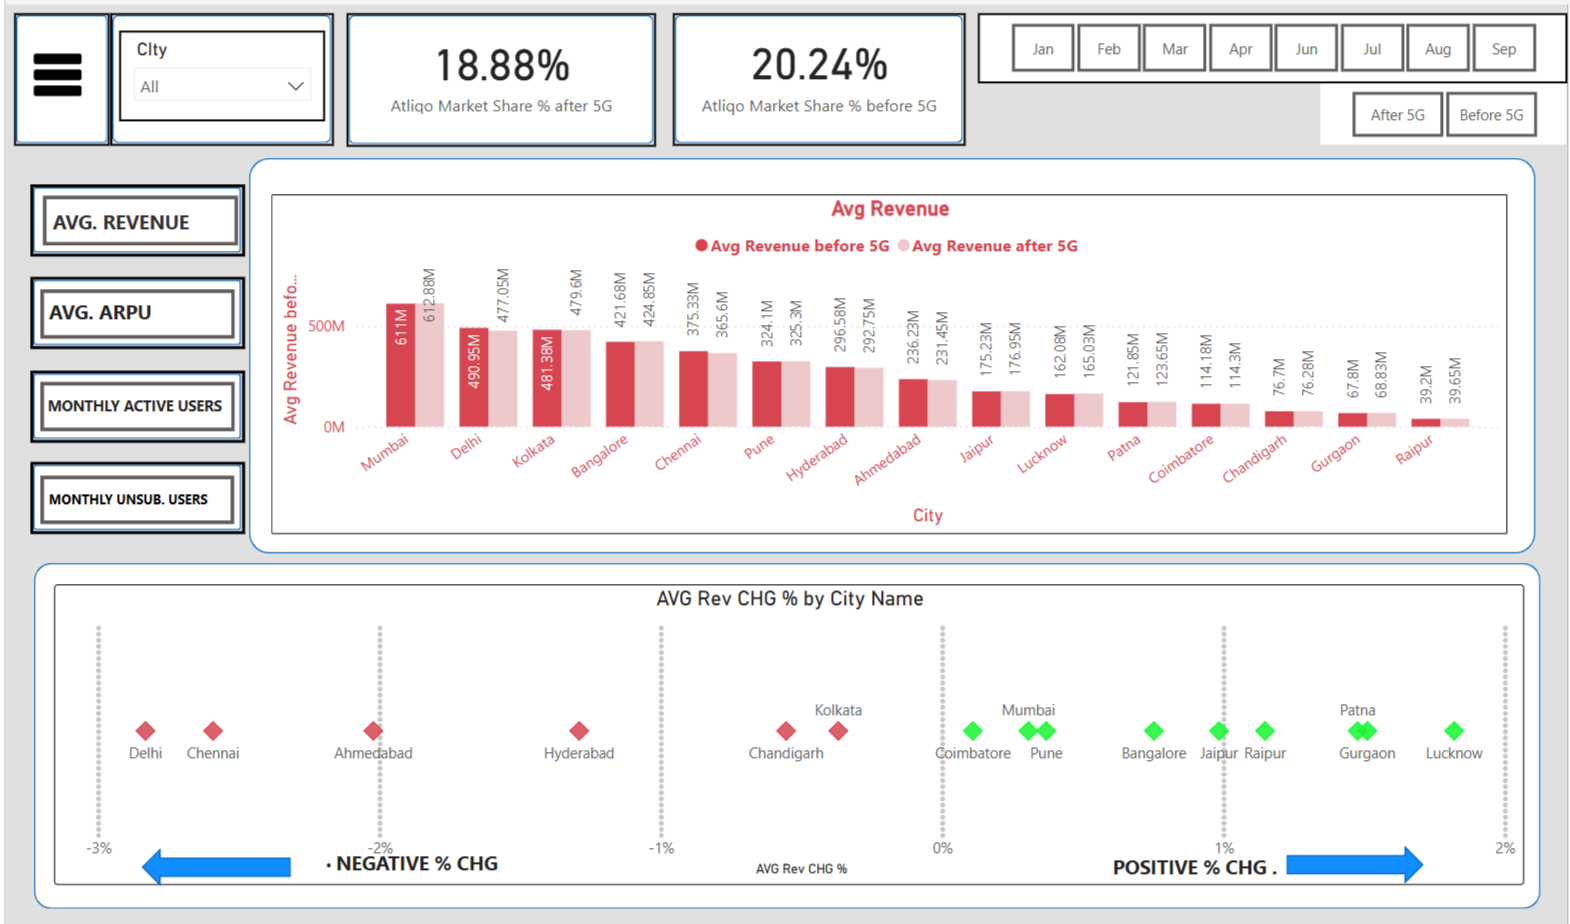

What the dashboard file says about the page in this screenshot:
{"tool":"powerbi","page":{"name":"Avg Revenue","canvas":[1280,760],"ordinal":3},"visuals":[{"type":"shape","box":[23.6,457.5,1234.5,283.3],"z":0},{"type":"shape","box":[20.6,375,176.3,59.6],"z":1000},{"type":"textbox","box":[30.5,389.9,148.9,32.3],"z":2000},{"type":"shape","box":[20.3,299.9,176.2,59.5],"z":3000},{"type":"textbox","box":[29.9,314.9,192.9,34.5],"z":4000},{"type":"shape","box":[20.3,223.7,176.2,59.5],"z":5000},{"type":"textbox","box":[30.5,236,139,47.2],"z":6000},{"type":"shape","box":[20.3,147.5,176.2,59.5],"z":7000},{"type":"textbox","box":[34.2,161.5,156.4,36],"z":8000},{"type":"shape","box":[200.2,126,1054.2,323.9],"z":9000},{"type":"actionButton","box":[30.5,156.6,160.1,41],"z":10000},{"type":"actionButton","box":[28.6,309.4,159.5,40.5],"z":11000},{"type":"actionButton","box":[29,385.8,158.9,39.7],"z":12000},{"type":"actionButton","box":[28.6,233.2,159.5,40.5],"z":13000},{"type":"scatterChart","fields":{"Category":["City_Name.City Name"],"X":["Key Measures.AVG Rev CHG %"]},"box":[40.3,475.3,1204.8,246.4],"z":17000},{"type":"clusteredColumnChart","title":"Avg Revenue","fields":{"Category":["City_Name.City Name"],"Y":["Key Measures.Avg Revenue before 5G","Key Measures.Avg Revenue after 5G"]},"box":[218,155.3,1013.1,278.6],"z":18000},{"type":"textbox","box":[902.2,690.8,163.1,38.1],"z":22000},{"type":"textbox","box":[247.4,687.2,192.9,50],"z":23000},{"type":"shape","box":[1050.2,689.7,112.3,31.3],"z":24000},{"type":"shape","box":[111.7,691.1,122.3,31.3],"z":25000},{"type":"shape","box":[547.1,7.1,240,109],"z":26000},{"type":"shape","box":[279.6,7.1,253.9,109.8],"z":27000},{"type":"shape","box":[85.9,7.2,183.3,108.8],"z":28000},{"type":"card","fields":{"Values":["Key Measures.Atliqo Market Share % before 5G"]},"box":[562.2,8.5,209.9,93.3],"z":29000},{"type":"card","fields":{"Values":["Key Measures.Atliqo Market Share % after 5G"]},"box":[294.6,15.3,223.7,79.6],"z":30000},{"type":"slicer","fields":{"Values":["City_Name.City Name"]},"box":[93.1,21.5,169,74.5],"z":31000},{"type":"slicer","fields":{"Values":["Dim_date.before/after_5g"]},"box":[1078.3,64.7,201.7,50.8],"z":32000},{"type":"shape","box":[7.2,7.2,78.8,109],"z":33000},{"type":"image","box":[18.6,24.4,48.7,65.9],"z":34000},{"type":"slicer","fields":{"Values":["Dim_date.month_name"]},"box":[797.3,6.9,483,57.6],"z":35000}]}

Visuals, with their boxes in screenshot pixels (x1, y1, x2, y2), scaled from the page's 1280x760 canvas onto the 1570x924 screenshot:
shape: <region>29, 556, 1543, 901</region>
shape: <region>25, 456, 242, 528</region>
textbox: <region>37, 474, 220, 513</region>
shape: <region>25, 365, 241, 437</region>
textbox: <region>37, 383, 273, 425</region>
shape: <region>25, 272, 241, 344</region>
textbox: <region>37, 287, 208, 344</region>
shape: <region>25, 179, 241, 252</region>
textbox: <region>42, 196, 234, 240</region>
shape: <region>246, 153, 1539, 547</region>
actionButton: <region>37, 190, 234, 240</region>
actionButton: <region>35, 376, 231, 425</region>
actionButton: <region>36, 469, 230, 517</region>
actionButton: <region>35, 284, 231, 333</region>
scatterChart - City_Name.City Name x Key Measures.AVG Rev CHG %: <region>49, 578, 1527, 877</region>
"Avg Revenue" clusteredColumnChart: <region>267, 189, 1510, 528</region>
textbox: <region>1107, 840, 1307, 886</region>
textbox: <region>303, 835, 540, 896</region>
shape: <region>1288, 839, 1426, 877</region>
shape: <region>137, 840, 287, 878</region>
shape: <region>671, 9, 965, 141</region>
shape: <region>343, 9, 654, 142</region>
shape: <region>105, 9, 330, 141</region>
card - Key Measures.Atliqo Market Share % before 5G: <region>690, 10, 947, 124</region>
card - Key Measures.Atliqo Market Share % after 5G: <region>361, 19, 636, 115</region>
slicer - City_Name.City Name: <region>114, 26, 321, 117</region>
slicer - Dim_date.before/after_5g: <region>1323, 79, 1569, 140</region>
shape: <region>9, 9, 105, 141</region>
image: <region>23, 30, 83, 110</region>
slicer - Dim_date.month_name: <region>978, 8, 1569, 78</region>
